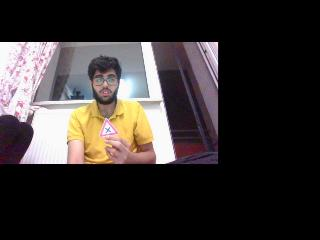intersection: (100, 119, 118, 135)
